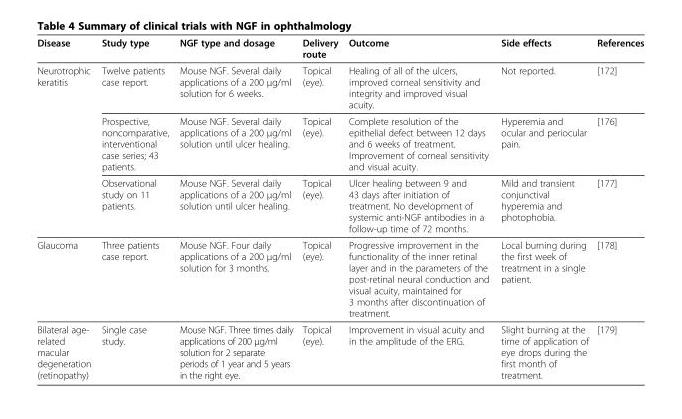table: (36, 36, 643, 380)
table column: (342, 36, 494, 380), (173, 36, 297, 380), (494, 36, 592, 380), (95, 36, 173, 380), (36, 36, 95, 380), (592, 36, 643, 380), (297, 36, 342, 380)
table column header: (36, 36, 643, 61)
table row: (36, 236, 643, 320), (36, 112, 643, 174), (36, 174, 643, 236), (36, 320, 643, 380), (36, 61, 643, 112), (36, 36, 643, 61)
table spanning cell: (36, 61, 95, 236)
